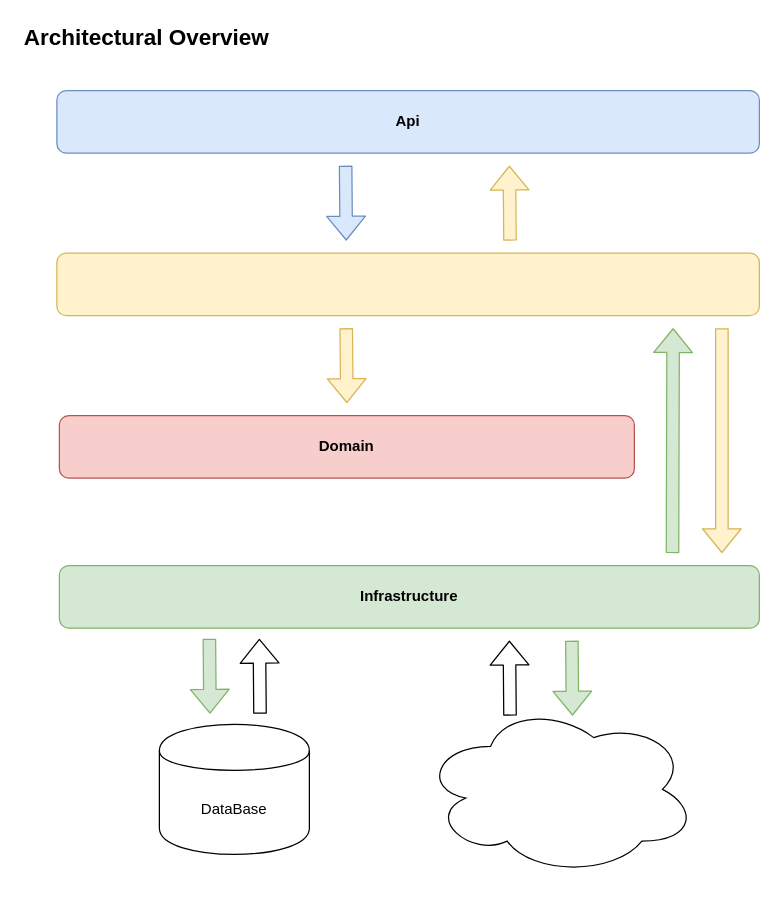
This 781x898 diagram has some shape labels left out. The shapes that lost their labels are listed below. From the top down, each one's centre as x and y in pixels, then its label:
the point at 407,284: Application
the point at 559,789: Cloud Apis
